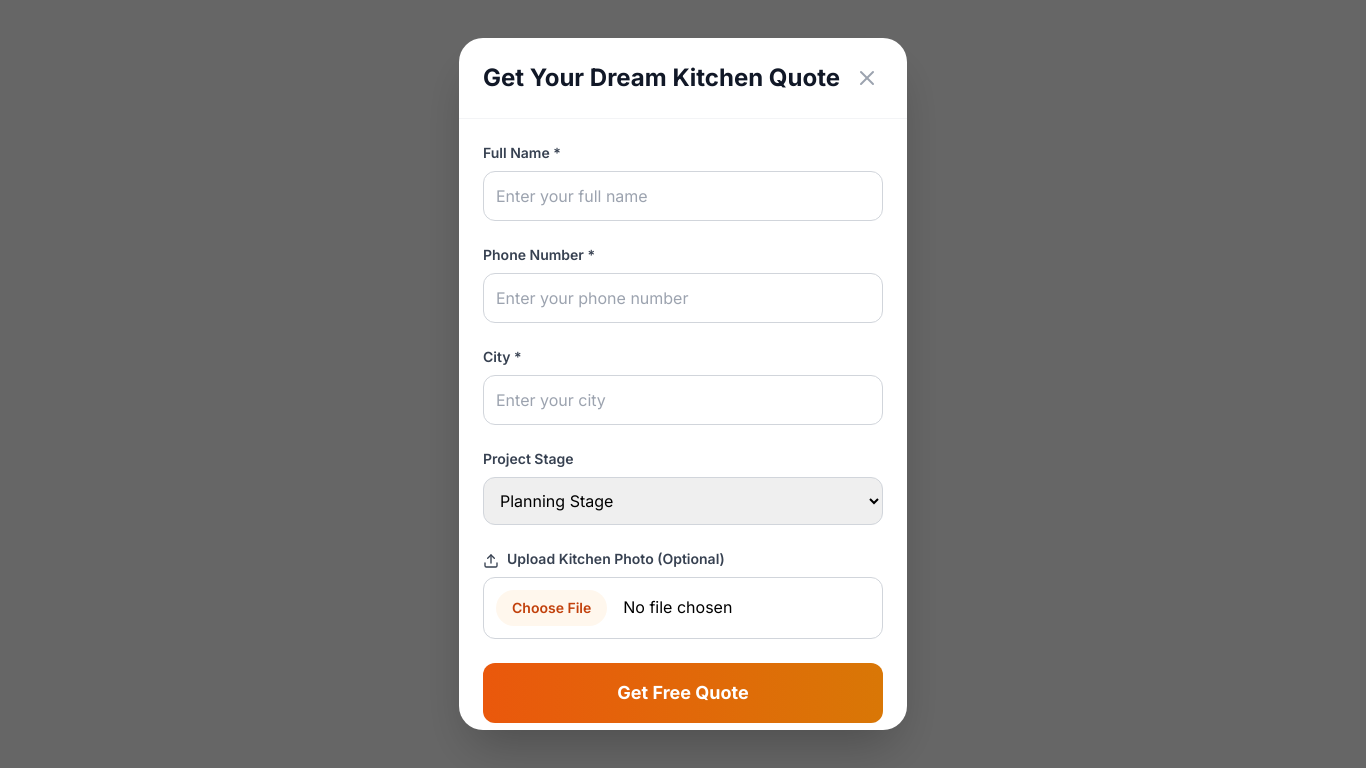
Scenario: ContactModal › validates required fields
Click the button "Get Free Quote" at (683, 693), box left=483, top=663, right=883, bottom=723
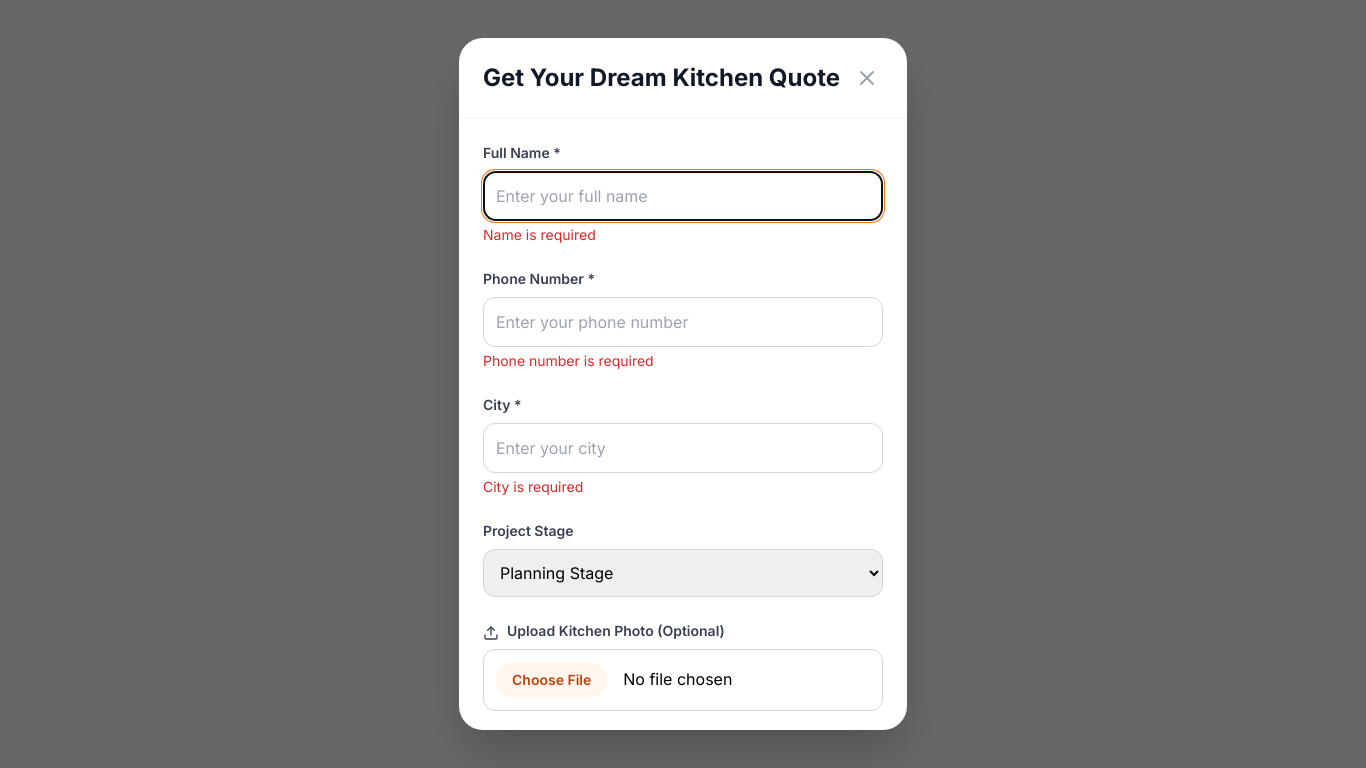
Check: the text "Name is required" is shown, box left=483, top=226, right=596, bottom=243
Check: the text "Phone number is required" is shown, box left=483, top=352, right=654, bottom=369
Check: the text "City is required" is shown, box left=483, top=478, right=583, bottom=495
